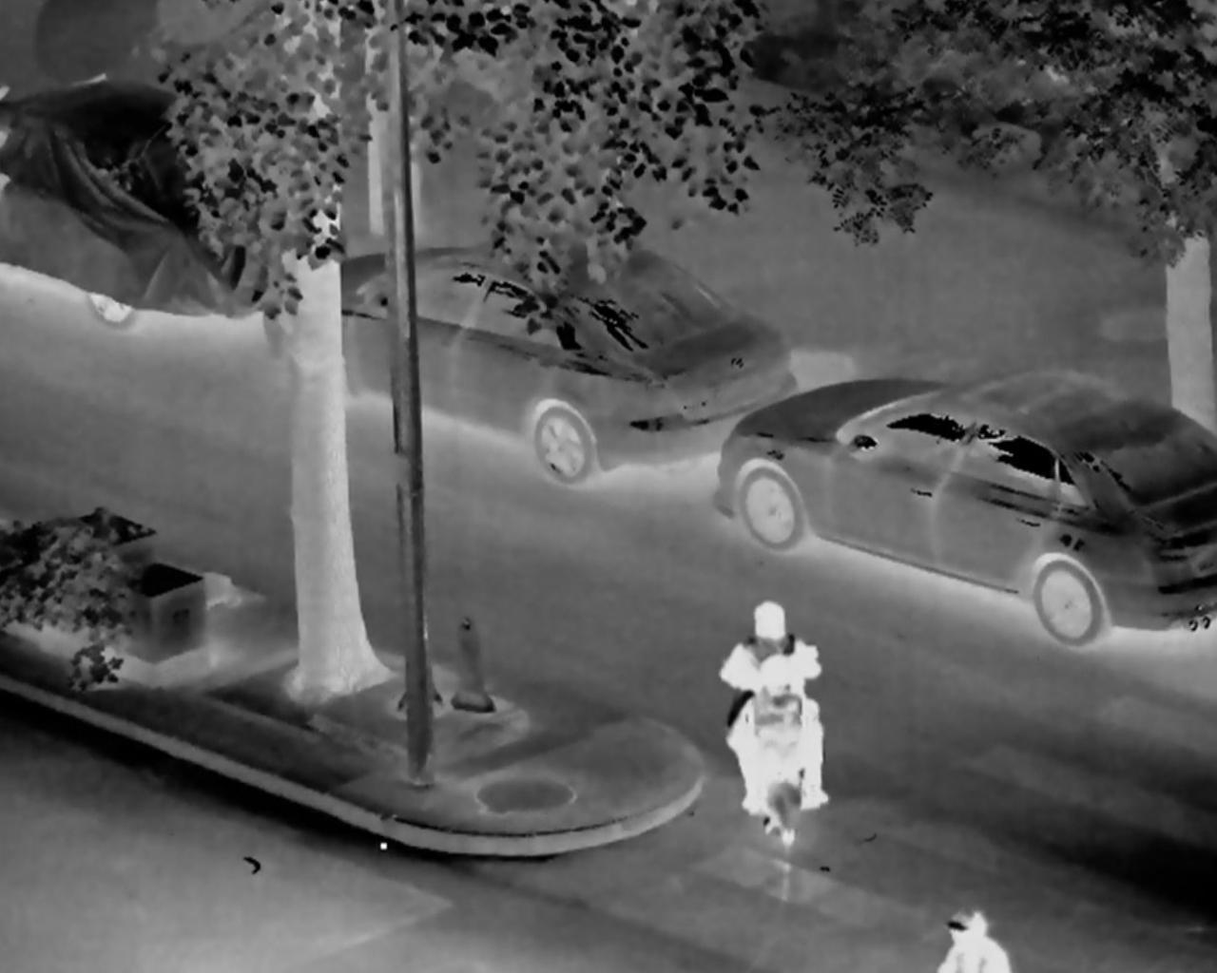person: (717, 596, 847, 881), (922, 904, 1011, 973)
